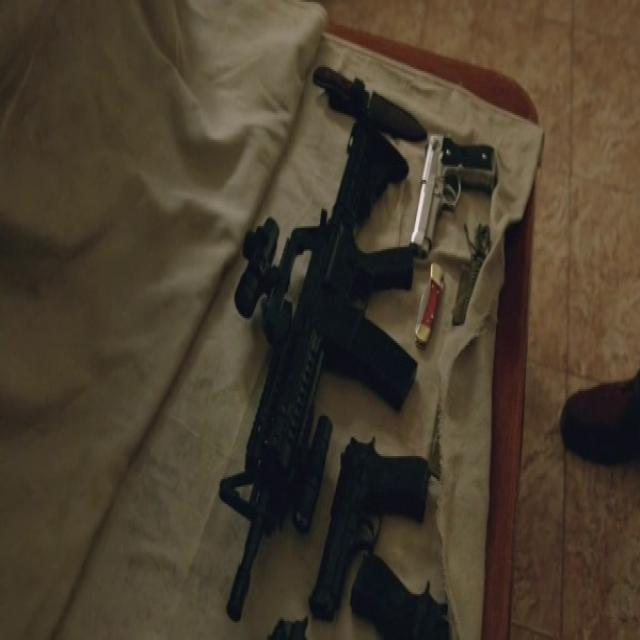rifle: (210, 120, 424, 636)
